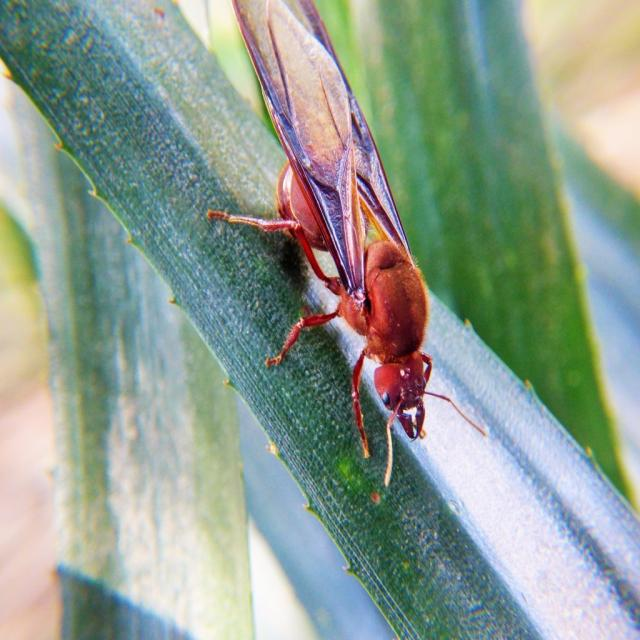Alive-Female-Alate: (206, 0, 486, 489)
